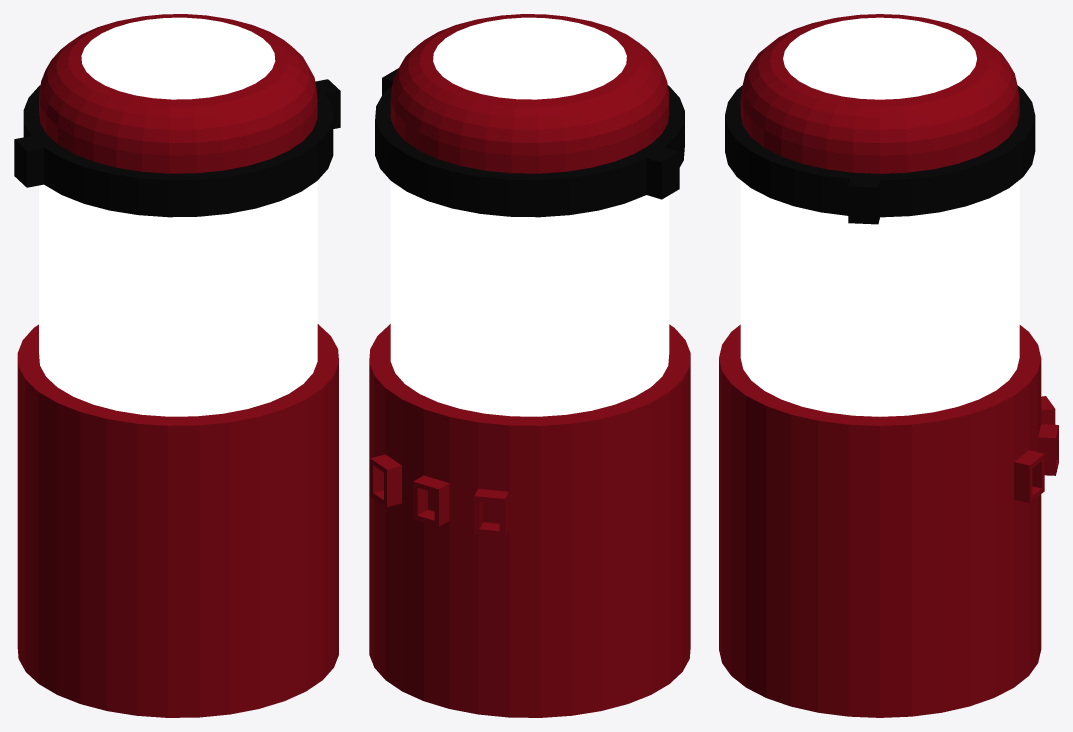
File: Lamp.fbx
3 views of the same model, side by side, from view 1: azimuth 30°, elevation 25°; view 2: azimuth 150°, elevation 25°; view 3: azimuth 270°, elevation 25° (orthographic).
Parts seen in each view (by area): view 1: Cylinder; view 2: Cylinder; view 3: Cylinder.
Boxes of the visible parts, bbox=[...] form: Cylinder: bbox=[14, 14, 340, 717]; Cylinder: bbox=[369, 14, 690, 717]; Cylinder: bbox=[719, 14, 1058, 717].
Size of the model in its own units: 1.75 by 3.33 by 1.72.
